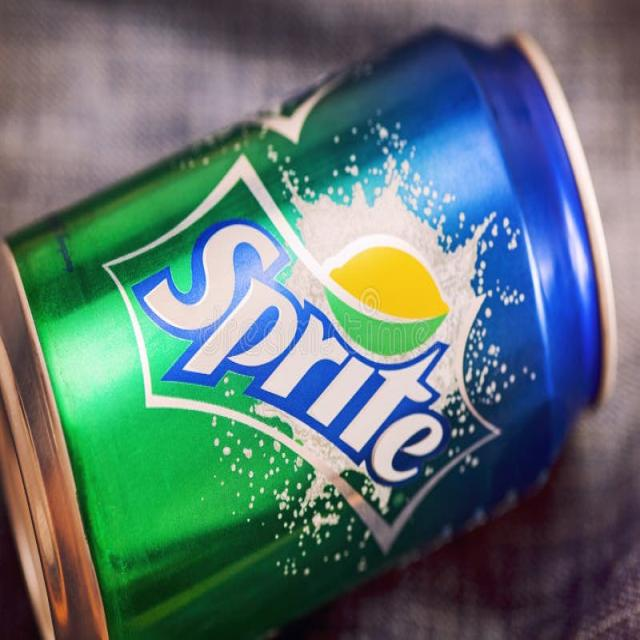sprite: (3, 27, 623, 624)
